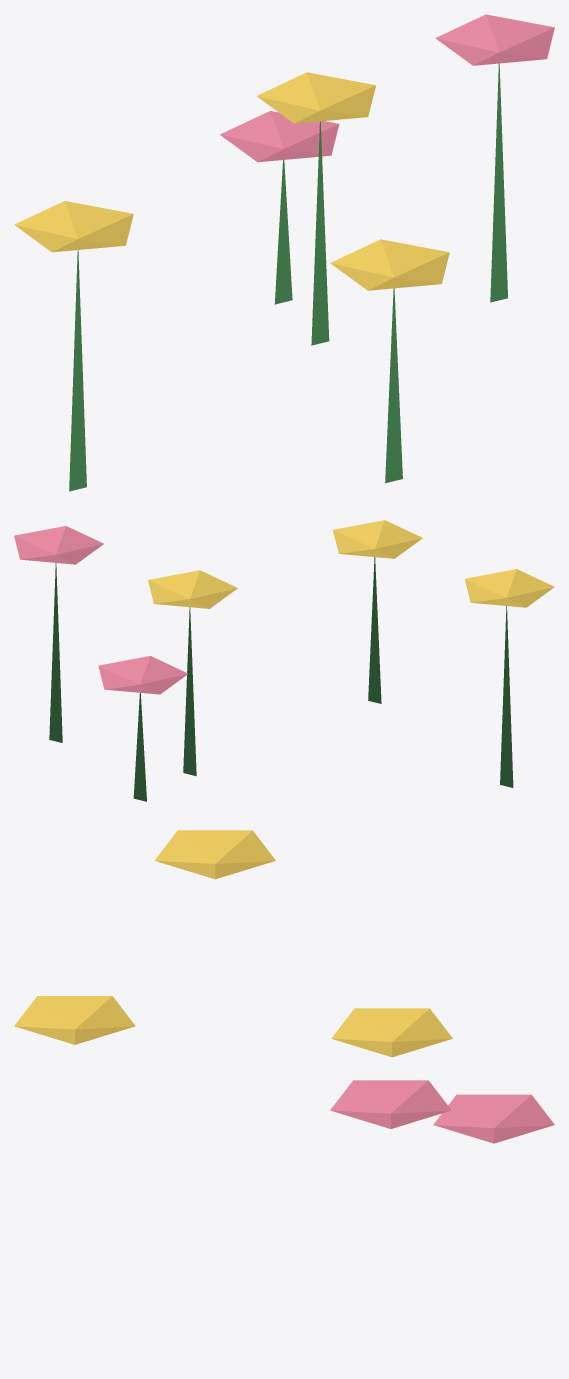
File: flowers.glb
The picture shows the model from 3 angles, top to bottom: view 1: azimuth 30°, elevation 25°; view 2: azimuth 150°, elevation 25°; view 3: azimuth 270°, elevation 25°; orthographic projection. The views are drawn at different scales.
Visible parts, largest first — view 1: Bloom.002, Bloom.001, Bloom.004, Bloom, Bloom.003, Stem.002, Stem.001, Stem, Stem.004, Stem.003; view 2: Bloom, Bloom.002, Bloom.003, Bloom.004, Bloom.001, Stem.002, Stem.001, Stem, Stem.004, Stem.003; view 3: Bloom.002, Bloom, Bloom.003, Bloom.001, Bloom.004.
Boxes of the visible parts, <box> form: Bloom.002: <box>14,201,133,252</box>; Bloom.001: <box>435,14,554,65</box>; Bloom.004: <box>330,239,449,290</box>; Bloom: <box>256,72,375,123</box>; Bloom.003: <box>220,111,339,162</box>; Stem.002: <box>69,250,86,491</box>; Stem.001: <box>490,63,507,302</box>; Stem: <box>311,121,329,345</box>; Stem.004: <box>385,288,402,483</box>; Stem.003: <box>274,160,292,304</box>; Bloom: <box>148,570,237,608</box>; Bloom.002: <box>465,569,554,607</box>; Bloom.003: <box>98,656,188,694</box>; Bloom.004: <box>333,520,422,558</box>; Bloom.001: <box>14,526,103,564</box>; Stem.002: <box>500,606,513,787</box>; Stem.001: <box>49,563,62,742</box>; Stem: <box>183,607,196,776</box>; Stem.004: <box>368,557,381,703</box>; Stem.003: <box>133,693,146,801</box>; Bloom.002: <box>154,830,275,879</box>; Bloom: <box>331,1008,452,1057</box>; Bloom.003: <box>433,1094,554,1143</box>; Bloom.001: <box>330,1080,451,1128</box>; Bloom.004: <box>14,996,135,1044</box>.
Bounding box in the file's own units: 0.5472 × 0.2243 × 0.4223.
